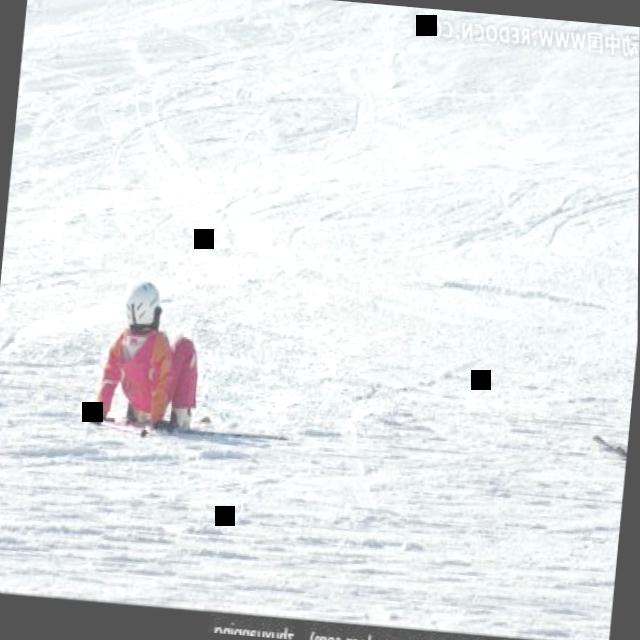Fall-Detected: (87, 262, 221, 446)
